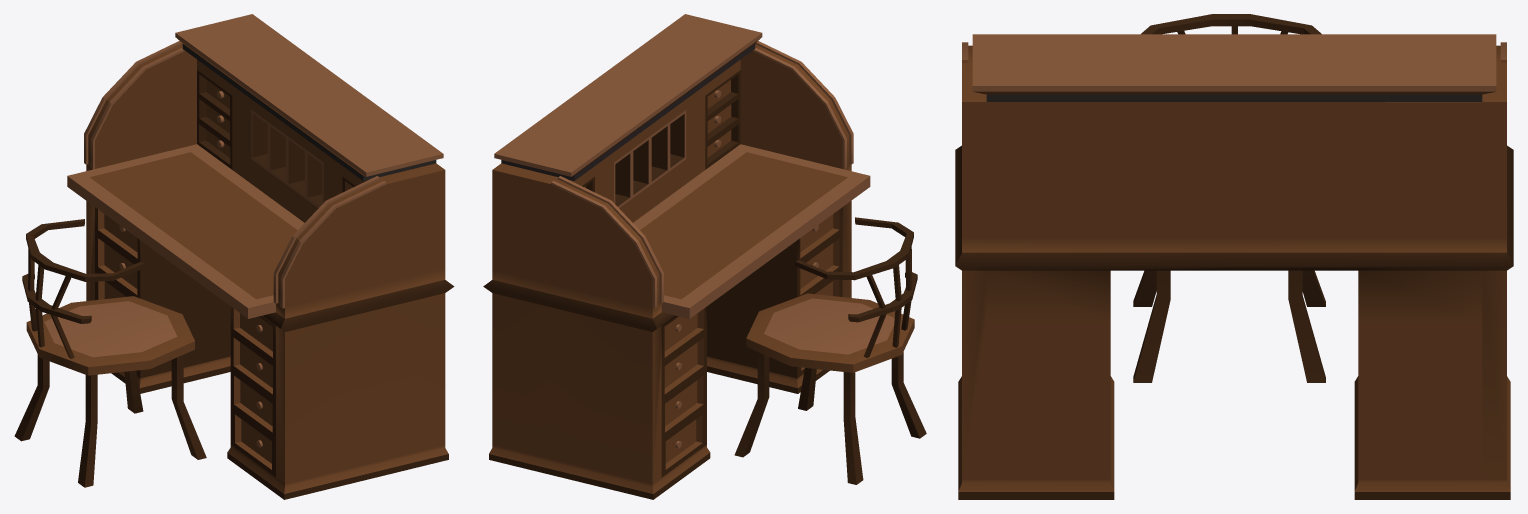
The model's file is study.fbx.
3 views of the same model, side by side, from view 1: azimuth 30°, elevation 25°; view 2: azimuth 150°, elevation 25°; view 3: azimuth 270°, elevation 25° (orthographic). The views are drawn at different scales.
Visible parts, largest first — view 1: desk_desk, chair1; view 2: desk_desk, chair1; view 3: desk_desk, chair1.
Part boxes in pixels (<box>): desk_desk: <box>67,14,454,499</box>; chair1: <box>14,219,206,487</box>; desk_desk: <box>483,14,870,499</box>; chair1: <box>734,217,926,484</box>; desk_desk: <box>955,34,1513,499</box>; chair1: <box>1133,14,1325,382</box>.
Bounding box in the file's own units: 6.03 × 5.48 × 6.67.
